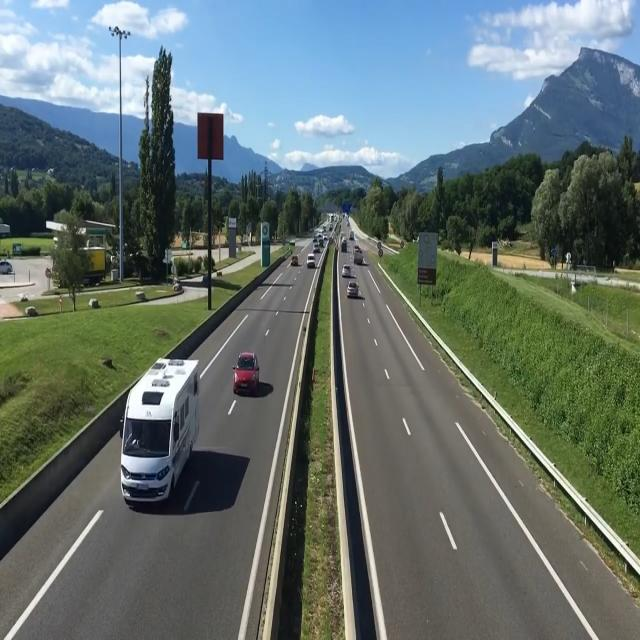car: (122, 358, 190, 514), (234, 349, 264, 399), (344, 276, 362, 302)
